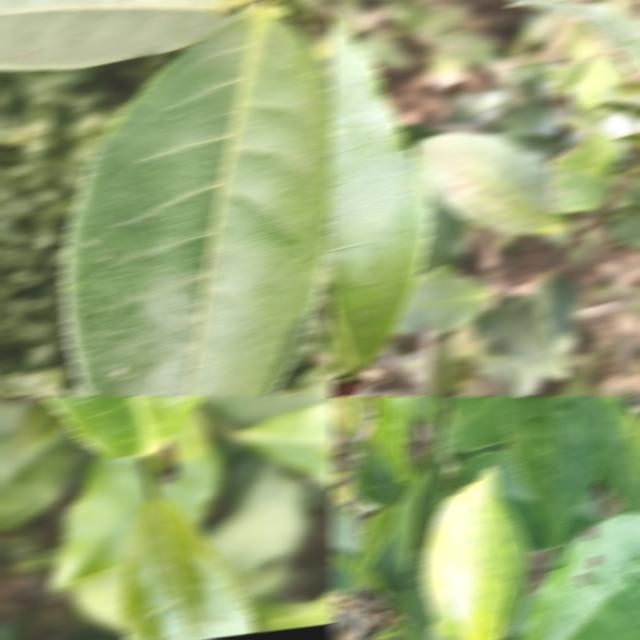Leaf: (62, 6, 334, 396), (330, 15, 431, 374), (119, 492, 255, 640), (411, 131, 569, 234), (0, 0, 235, 69), (519, 513, 640, 640), (421, 468, 508, 640), (502, 396, 602, 545), (371, 461, 448, 640), (447, 450, 553, 549), (508, 0, 640, 75), (229, 400, 334, 487), (471, 295, 569, 378), (0, 423, 69, 530), (392, 270, 491, 332), (546, 130, 619, 211), (595, 396, 640, 510), (438, 396, 508, 459), (348, 503, 397, 587), (371, 396, 414, 483), (393, 470, 427, 570), (531, 273, 580, 336), (351, 453, 403, 505), (330, 396, 375, 454), (330, 502, 359, 591), (559, 497, 602, 541)
